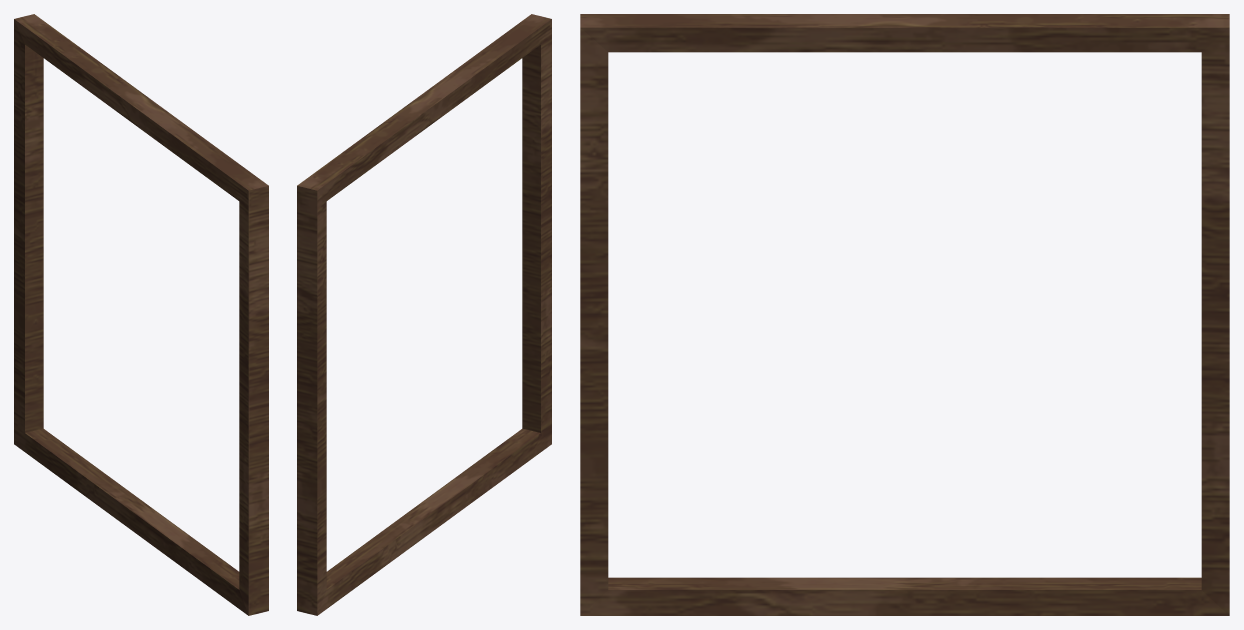
File: GlassFrame.glb
3 views of the same model, side by side, from view 1: azimuth 30°, elevation 25°; view 2: azimuth 150°, elevation 25°; view 3: azimuth 270°, elevation 25° (orthographic). The views are drawn at different scales.
Parts seen in each view (by area): view 1: Frame; view 2: Frame; view 3: Frame.
Part boxes in pixels (left/top/right/bottom): Frame: left=14, top=14, right=268, bottom=615; Frame: left=297, top=14, right=551, bottom=615; Frame: left=580, top=14, right=1229, bottom=615.
Size of the model in its own units: 0.1 by 2 by 2.
Materials: 1 (1 with a texture image).
